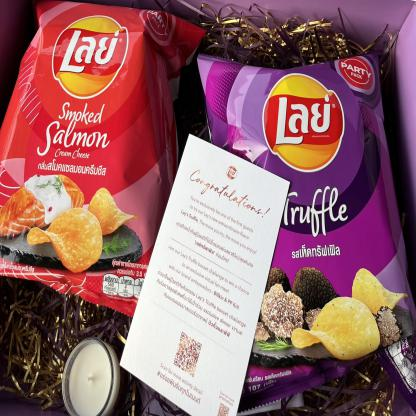potatochip: (198, 41, 415, 415), (0, 0, 213, 338)
